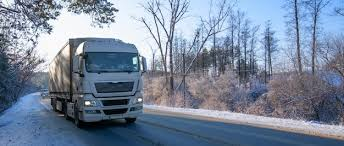Truck: (49, 38, 146, 126)
